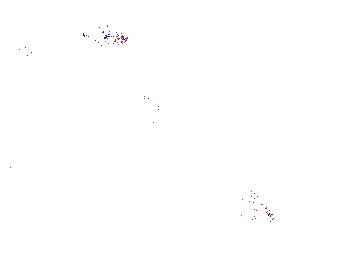X-ray fish: (231, 190, 281, 224), (21, 132, 64, 158), (13, 41, 35, 61)
glassfish: (191, 104, 296, 163), (139, 82, 161, 133)
red belly glassfish: (80, 29, 129, 46)
